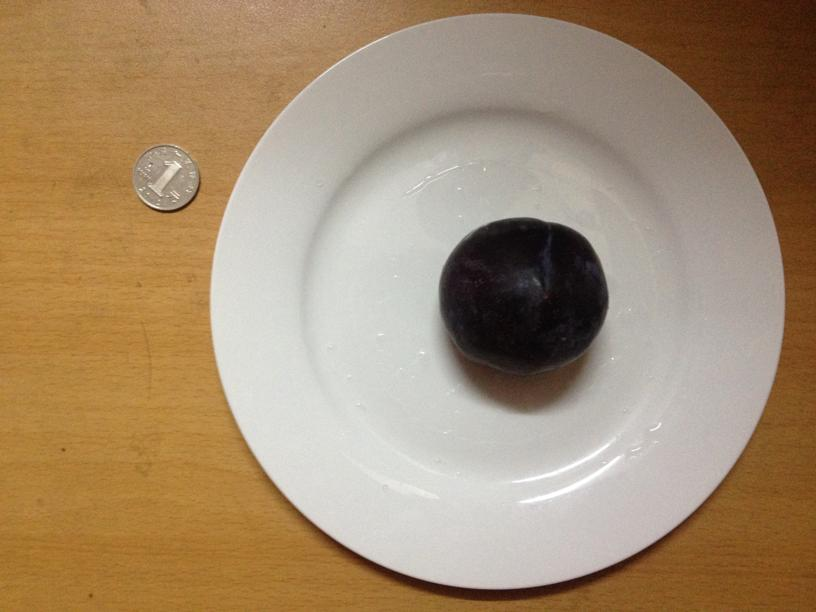coin: (125, 142, 200, 210)
plum: (434, 221, 608, 368)
